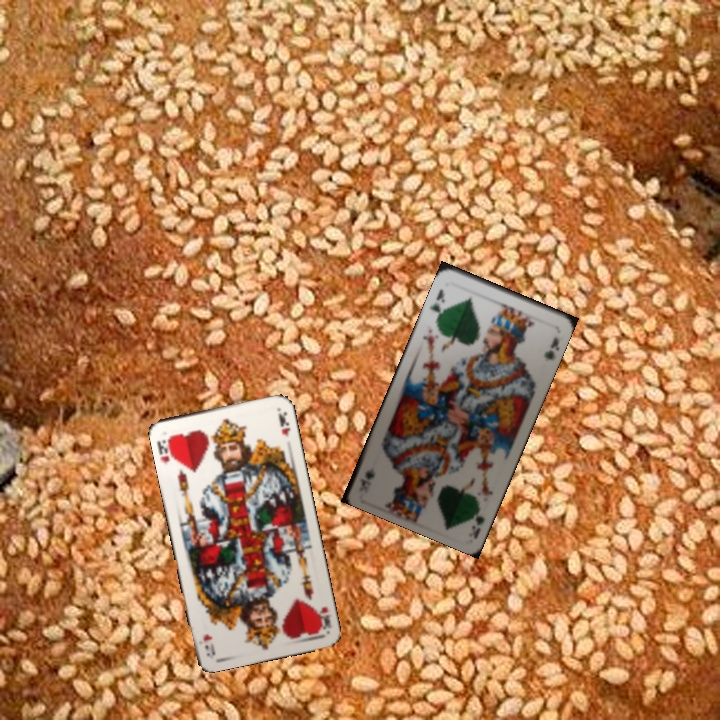GK: (467, 498, 487, 540), (425, 285, 448, 320)
HK: (153, 432, 177, 466), (312, 603, 334, 633)
